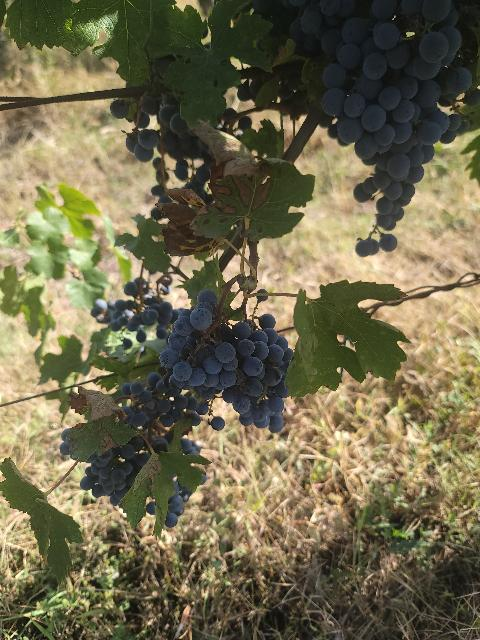grapes: (289, 0, 479, 231), (121, 305, 238, 428), (234, 328, 291, 431)
